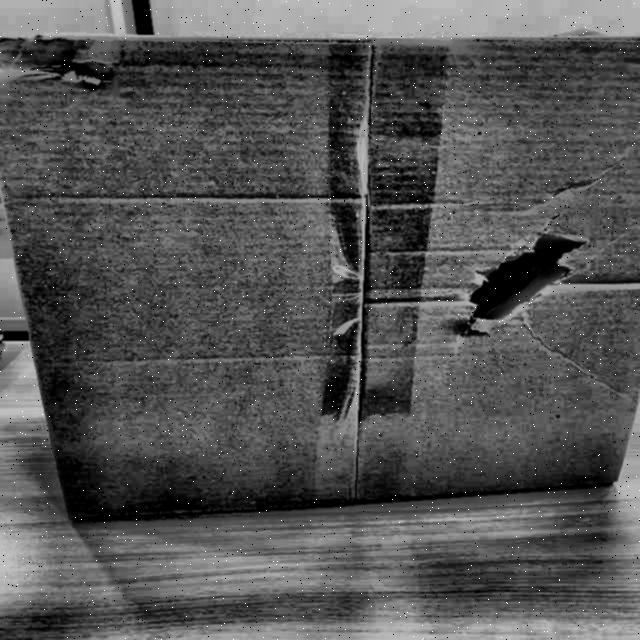box: (0, 25, 639, 536)
hole: (456, 229, 585, 315), (0, 42, 129, 102)
